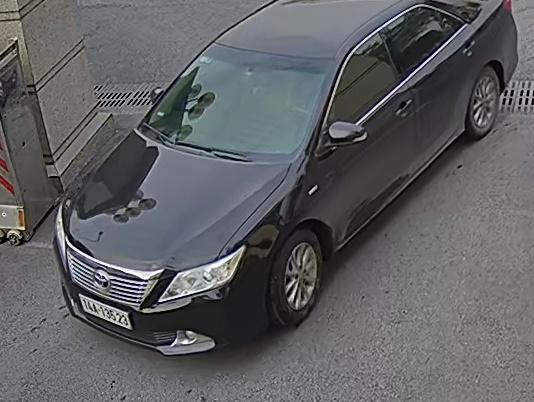vehicle plate: (75, 290, 139, 333)
